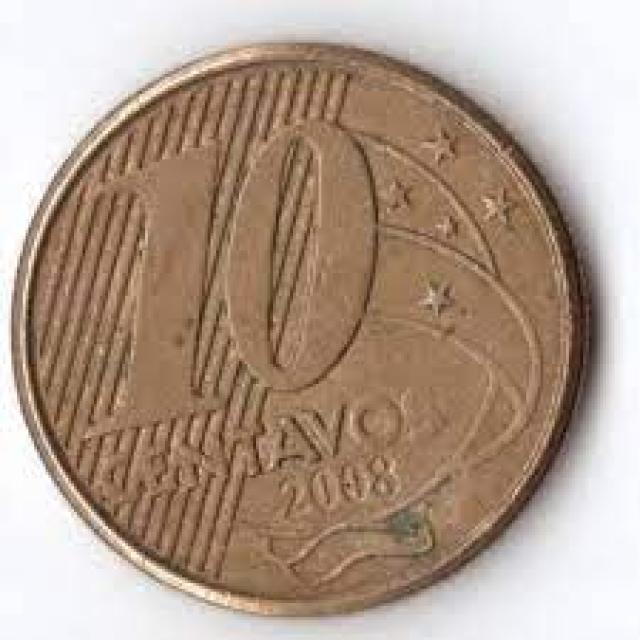10 cent: (15, 44, 582, 612)
